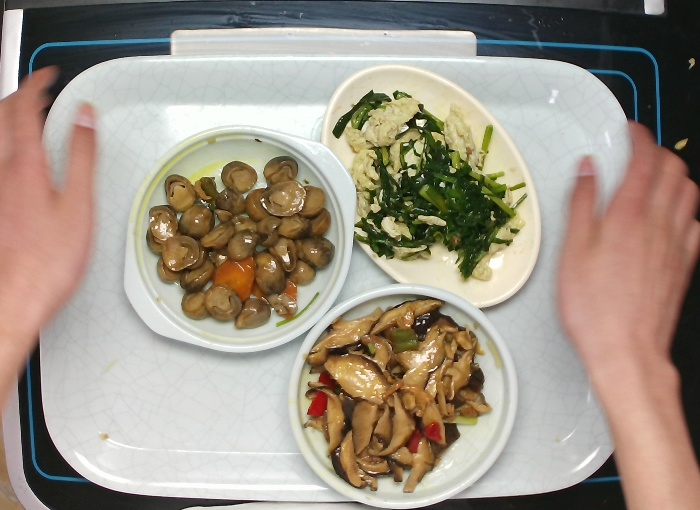JYsf-Shuang_Er_Pan: (118, 124, 363, 359)
JYsf-Tuo_Yuan_Wan: (319, 64, 543, 312)
JYsf-Xiao_Yuan_Pan: (285, 280, 521, 510)
